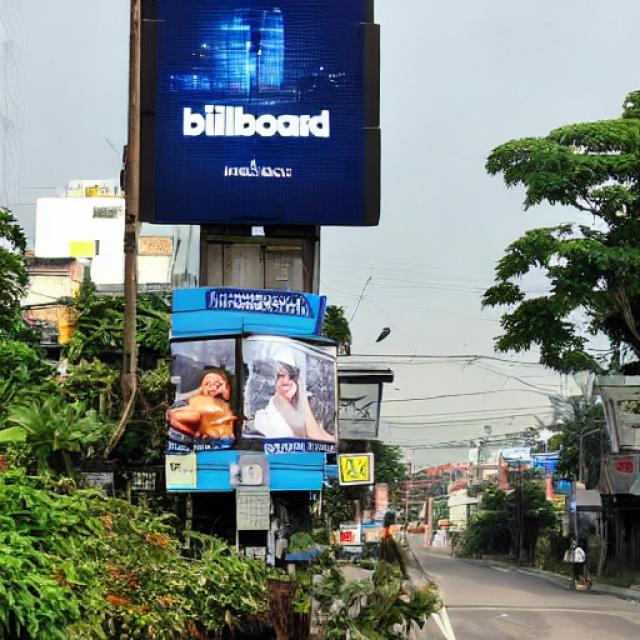Billboard: (128, 0, 382, 226), (168, 283, 329, 498)
